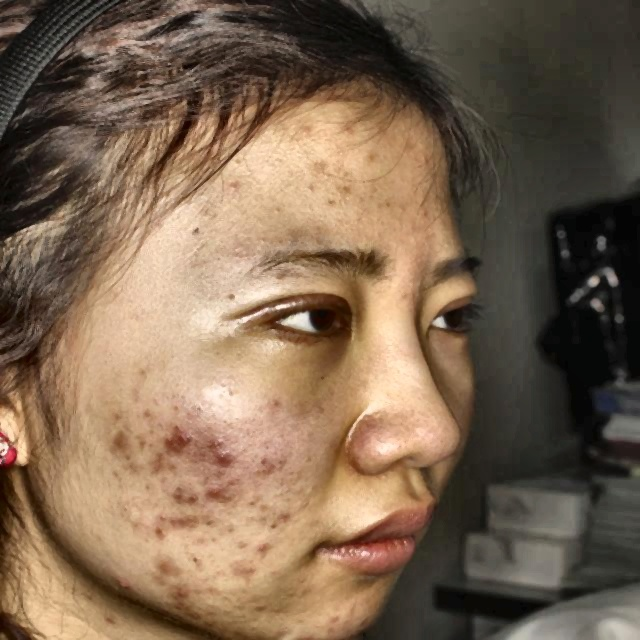papule: (161, 424, 196, 455), (101, 567, 141, 594), (146, 548, 183, 576), (251, 446, 284, 476), (169, 594, 205, 621), (142, 449, 179, 475), (208, 448, 240, 478), (268, 502, 303, 529), (287, 120, 319, 149), (101, 432, 130, 460), (338, 120, 369, 146), (160, 479, 184, 512), (168, 510, 198, 535), (177, 482, 203, 509), (206, 428, 236, 450), (200, 479, 222, 504), (248, 564, 278, 582), (142, 516, 164, 540), (245, 539, 279, 554), (164, 578, 187, 593), (353, 140, 363, 149)
